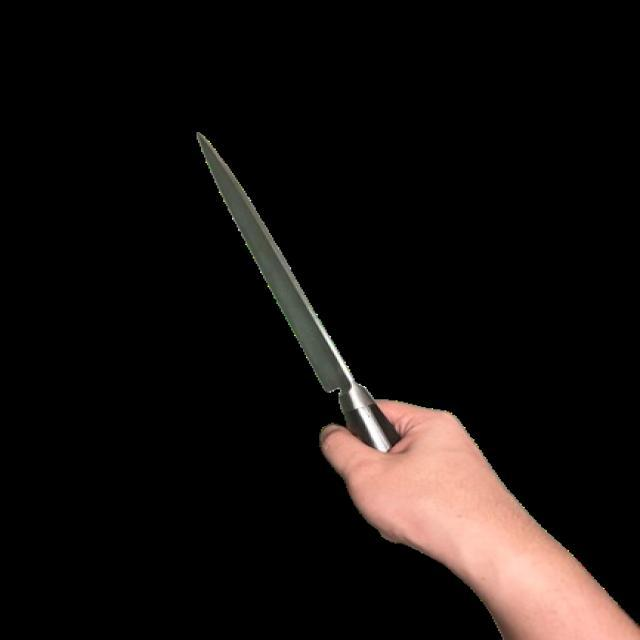knife: (173, 108, 403, 458)
